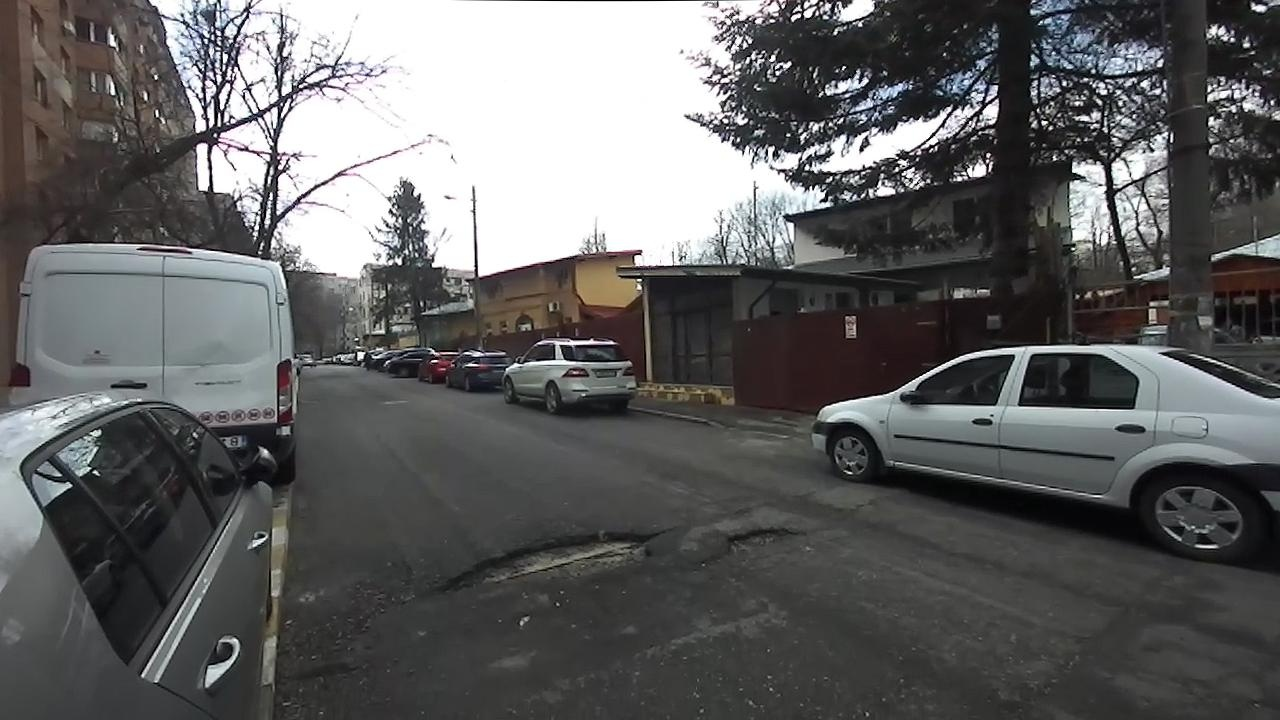pothole: (420, 524, 667, 602), (706, 520, 803, 562)
